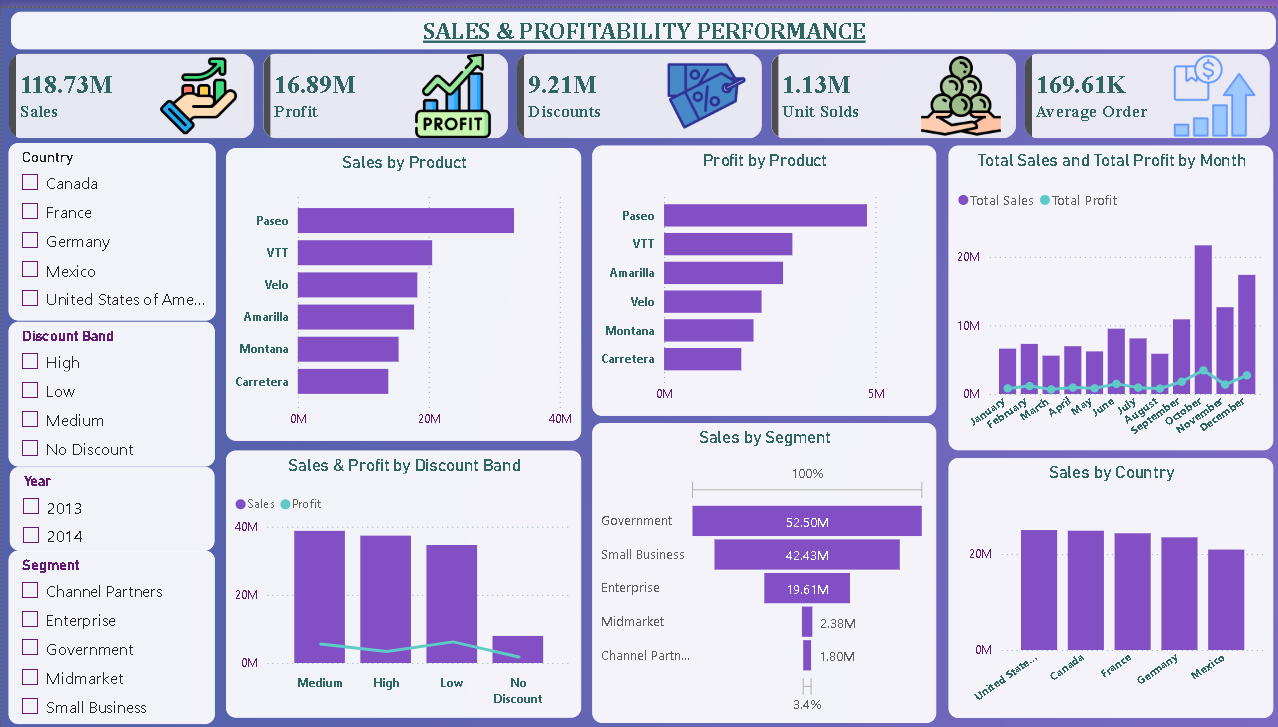

The page's visual inventory and layout, read from the dashboard file:
{"tool":"powerbi","page":{"name":"Dashboard","canvas":[1280,720],"ordinal":0},"visuals":[{"type":"slicer","fields":{"Values":["cleaned_data.Discount Band"]},"box":[7.5,313.8,206.2,145],"z":0},{"type":"cardVisual","fields":{"Data":["cleaned_data.Total Sales","cleaned_data.Total Profit","Sum(cleaned_data.Discounts)","cleaned_data.Total Unit Solds","cleaned_data.Average Order Value"]},"box":[0,37.5,1280,100],"z":1000},{"type":"lineClusteredColumnComboChart","title":"Sales & Profit by Discount Band","fields":{"Category":["cleaned_data.Discount Band"],"Y2":["Sum(cleaned_data.Profit)"],"Y":["Sum(cleaned_data.Sales)"]},"box":[225,442.5,355,267.5],"z":2000},{"type":"barChart","title":"Sales by Product","fields":{"Y":["cleaned_data.Total Sales"],"Category":["cleaned_data.Product"]},"box":[225,140,355,292.5],"z":3000},{"type":"barChart","title":"Profit by Product","fields":{"Y":["Sum(cleaned_data.Profit)"],"Category":["cleaned_data.Product"]},"box":[591.2,137.5,343.8,270],"z":4000},{"type":"funnel","fields":{"Category":["cleaned_data.Segment"],"Y":["Sum(cleaned_data.Sales)"]},"box":[591.2,415,343.8,300],"z":5000},{"type":"lineClusteredColumnComboChart","fields":{"Category":["cleaned_data.Month & Year.Variation.Date Hierarchy.Month"],"Y":["cleaned_data.Total Sales"],"Y2":["cleaned_data.Total Profit"]},"box":[947.5,137.5,325,305],"z":6000},{"type":"slicer","fields":{"Values":["cleaned_data.Segment"]},"box":[7.5,542.5,206.2,173.8],"z":7000},{"type":"slicer","fields":{"Values":["cleaned_data.Year"]},"box":[8.8,458.8,205,83.8],"z":8000},{"type":"slicer","fields":{"Values":["cleaned_data.Country"]},"box":[7.5,135,207.5,177.5],"z":9000},{"type":"shape","title":"SALES & PROFITABILITY PERFORMANCE ","box":[10,3.8,1265,37.5],"z":10000},{"type":"clusteredColumnChart","title":"Sales by Country","fields":{"Category":["cleaned_data.Country"],"Y":["cleaned_data.Total Sales"]},"box":[947.5,450,325,260],"z":11000}]}

Visuals, with their boxes in screenshot pixels (x1, y1, x2, y2), scaled from the page's 1280x720 canvas onto the 1278x727 screenshot:
slicer - cleaned_data.Discount Band: detection(7, 317, 213, 463)
cardVisual - cleaned_data.Total Sales x cleaned_data.Total Profit: detection(0, 38, 1277, 139)
"Sales & Profit by Discount Band" lineClusteredColumnComboChart: detection(225, 447, 579, 717)
"Sales by Product" barChart: detection(225, 141, 579, 437)
"Profit by Product" barChart: detection(590, 139, 934, 411)
funnel - cleaned_data.Segment x Sum(cleaned_data.Sales): detection(590, 419, 934, 722)
lineClusteredColumnComboChart - cleaned_data.Month & Year.Variation.Date Hierarchy.Month x cleaned_data.Total Sales: detection(946, 139, 1271, 447)
slicer - cleaned_data.Segment: detection(7, 548, 213, 723)
slicer - cleaned_data.Year: detection(9, 463, 213, 548)
slicer - cleaned_data.Country: detection(7, 136, 215, 316)
"SALES & PROFITABILITY PERFORMANCE " shape: detection(10, 4, 1273, 42)
"Sales by Country" clusteredColumnChart: detection(946, 454, 1271, 717)
